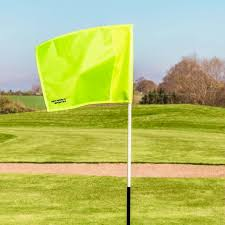Flag: (36, 24, 134, 111)
